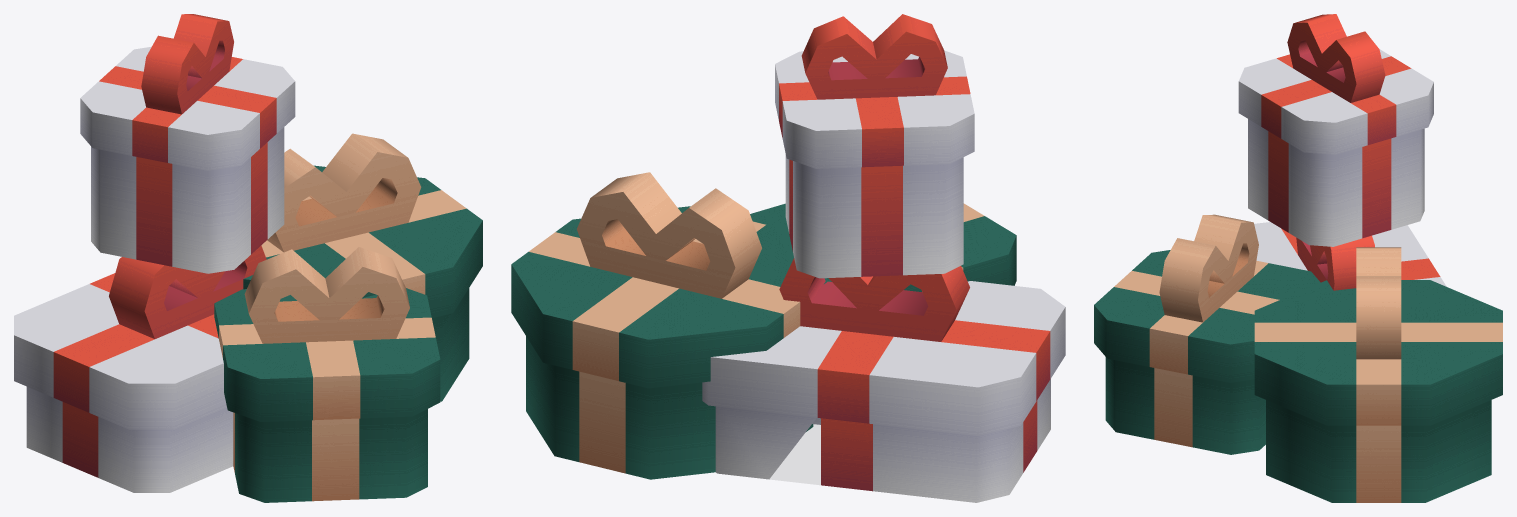
The model's file is gifts.glb.
3 views of the same model, side by side, from view 1: azimuth 30°, elevation 25°; view 2: azimuth 150°, elevation 25°; view 3: azimuth 270°, elevation 25° (orthographic). The views are drawn at different scales.
Visible parts, largest first — view 1: lid (×4), present-a-cube, present-b-cube, present-a-rectangle, present-b-round; view 2: lid (×4), present-a-rectangle, present-a-cube, present-b-round; view 3: lid (×4), present-b-round, present-a-cube, present-b-cube.
Part boxes in pixels (x1,y1,x2,y2): lid (×4): [14, 14, 482, 429]; present-a-cube: [91, 127, 284, 273]; present-b-cube: [233, 409, 427, 502]; present-a-rectangle: [26, 386, 233, 492]; present-b-round: [432, 288, 469, 401]; lid (×4): [511, 14, 1065, 435]; present-a-rectangle: [715, 379, 1050, 502]; present-a-cube: [785, 155, 963, 278]; present-b-round: [526, 336, 813, 479]; lid (×4): [1094, 14, 1502, 425]; present-b-round: [1266, 400, 1491, 502]; present-a-cube: [1248, 119, 1424, 246]; present-b-cube: [1105, 357, 1265, 454].
Bounding box in the file's own units: 1.63 × 1.38 × 1.45.
Materials: 4 (4 with a texture image).
